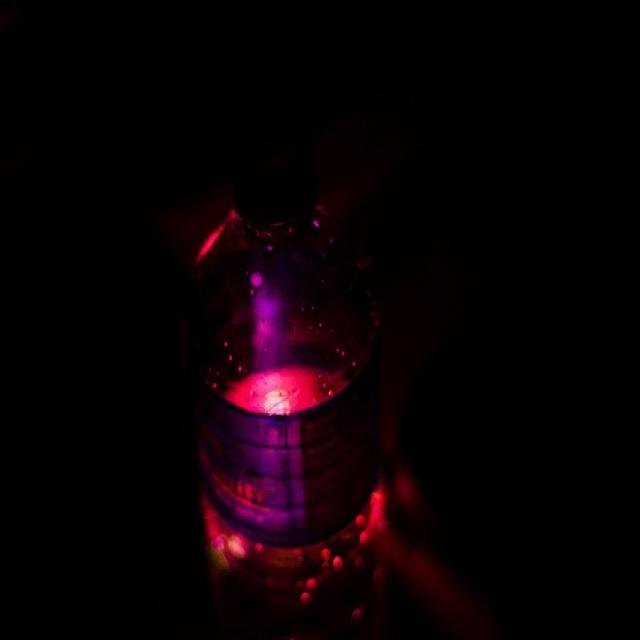Bottle: (175, 107, 425, 640)
